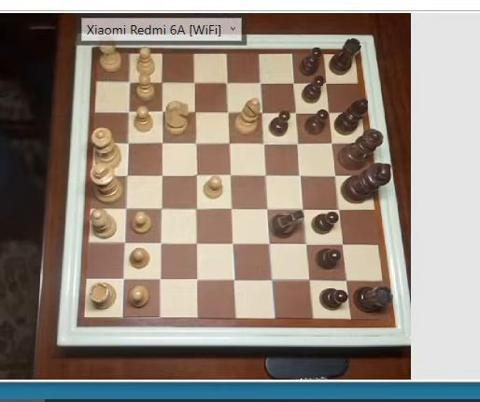xcorner: (259, 168, 271, 180), (221, 76, 233, 87), (222, 106, 234, 117), (123, 105, 134, 117), (258, 136, 269, 148), (329, 169, 341, 180), (294, 169, 306, 180), (261, 202, 273, 213), (119, 201, 131, 212), (263, 237, 275, 248), (154, 236, 166, 247), (320, 76, 331, 87), (287, 76, 298, 87), (254, 76, 265, 87), (189, 76, 200, 87), (156, 76, 167, 87), (124, 76, 135, 87), (323, 106, 334, 117), (289, 106, 300, 117), (256, 106, 267, 117), (189, 106, 200, 117), (156, 106, 167, 117), (326, 137, 337, 148), (292, 137, 303, 148), (224, 136, 235, 147), (190, 136, 201, 147), (156, 136, 167, 147), (122, 136, 133, 147), (225, 168, 236, 179), (190, 168, 201, 179), (155, 168, 166, 179), (121, 168, 132, 179), (333, 202, 344, 213), (297, 202, 308, 213), (226, 202, 237, 213), (190, 202, 201, 213), (155, 201, 166, 212), (337, 237, 348, 248), (300, 237, 311, 248), (227, 237, 238, 248), (191, 236, 202, 247), (118, 236, 129, 247), (340, 274, 351, 285), (303, 274, 314, 285), (266, 273, 277, 284), (228, 273, 239, 284), (191, 273, 202, 284), (154, 273, 165, 284), (117, 272, 128, 283)
